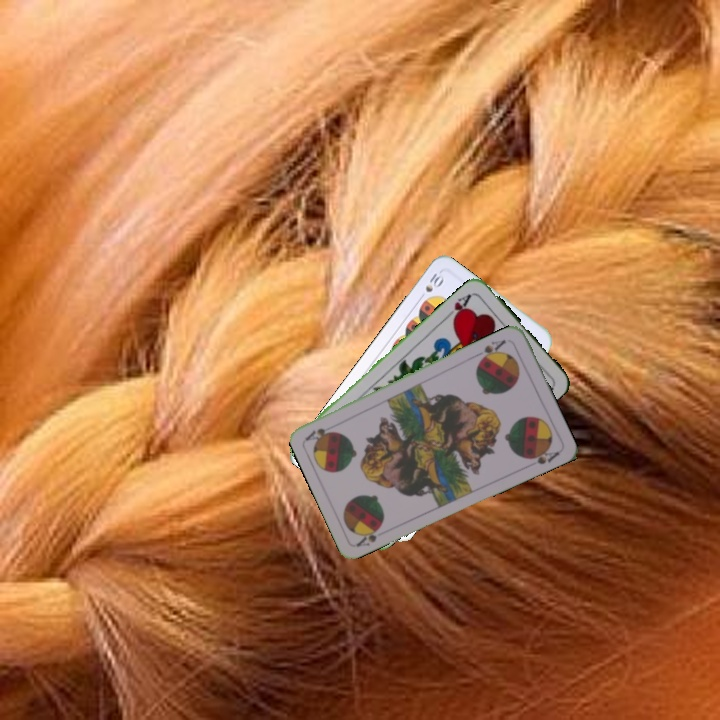HA: (442, 290, 474, 323)
S10: (415, 267, 447, 303)
SA: (473, 336, 509, 364), (352, 521, 385, 550)
